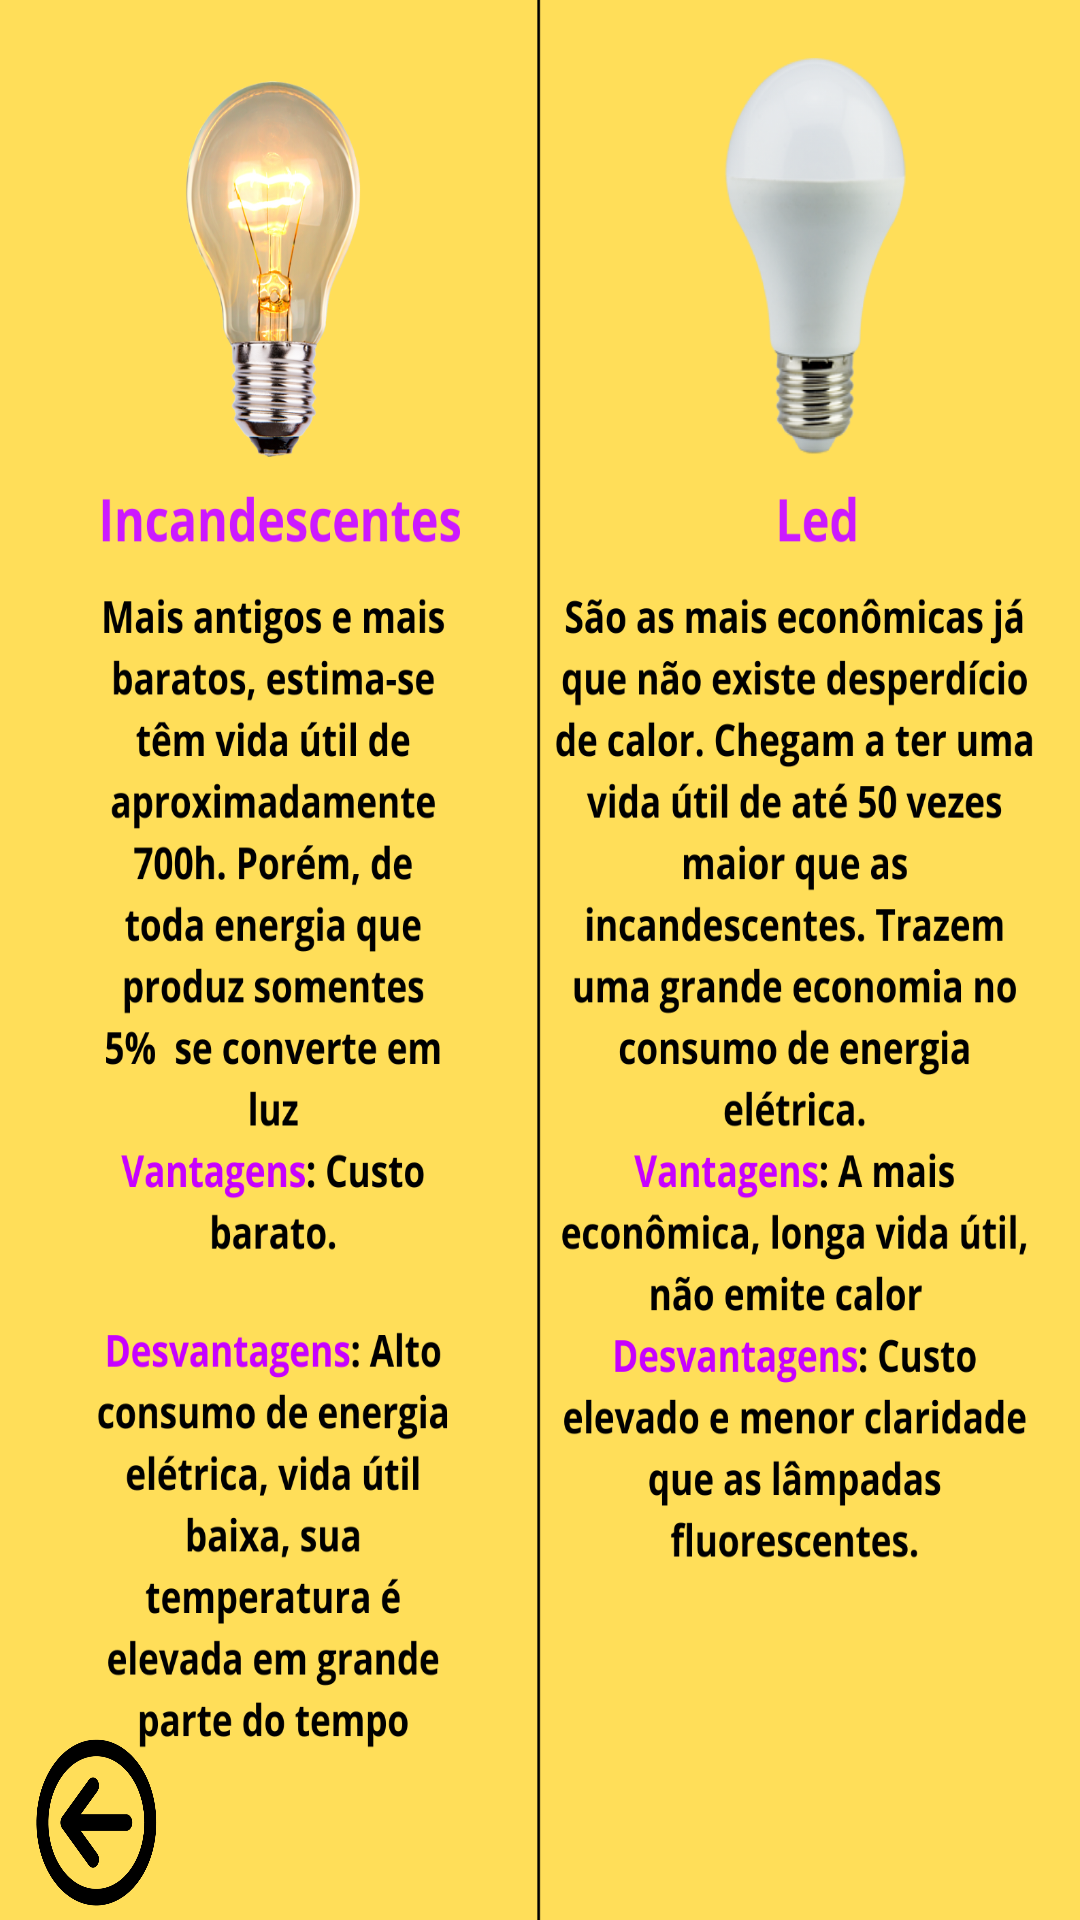

Icons on this 1080px×1920px Android screen, each with its box as (x1, y1, x2, y2):
back: (36, 1739, 156, 1906)
